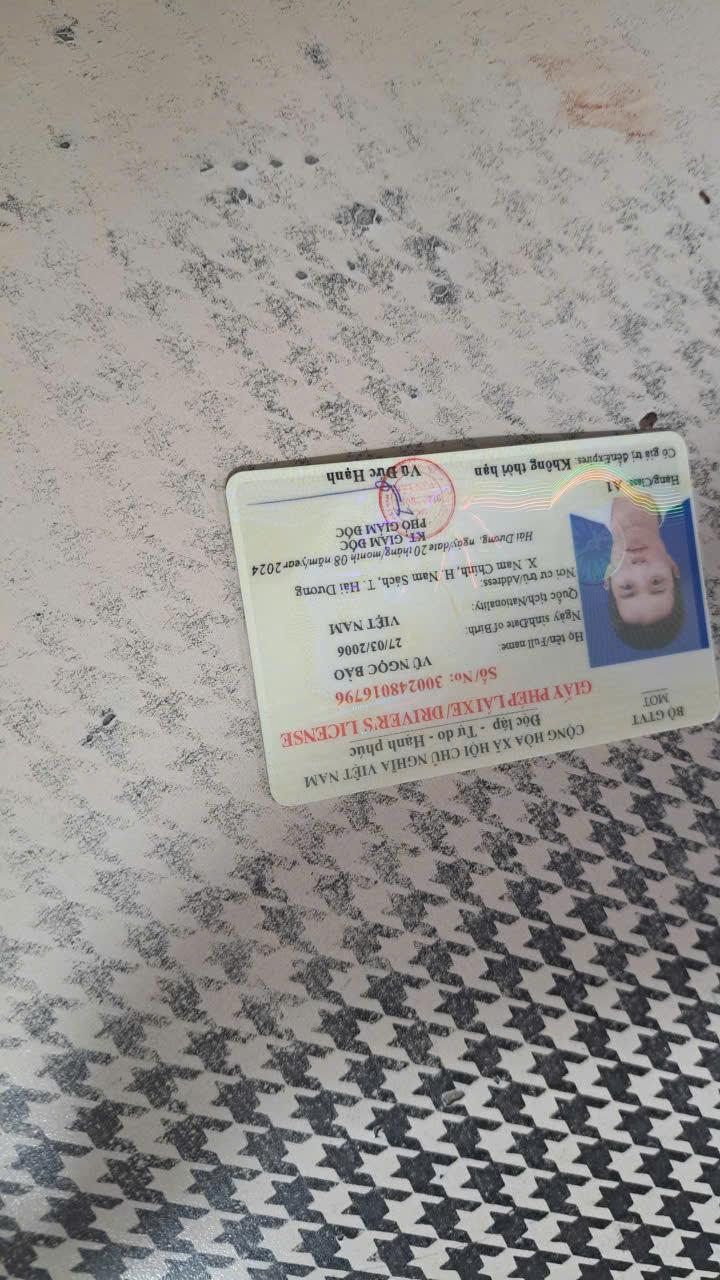gplx: (212, 417, 720, 817)
